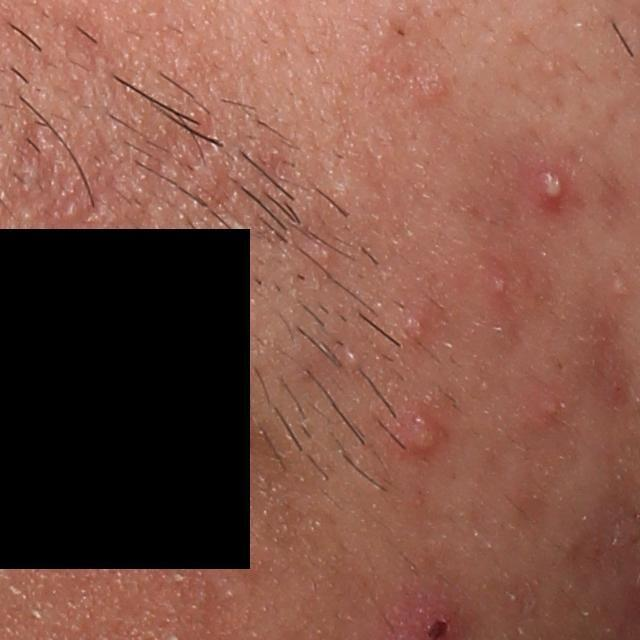comedo: (420, 75, 449, 99), (316, 242, 335, 262), (544, 59, 558, 74)
papule: (523, 386, 563, 422)
pustule: (396, 409, 446, 458), (533, 166, 571, 211)
